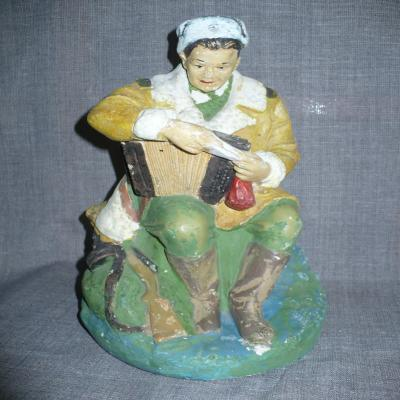sculpture: (77, 17, 327, 381)
